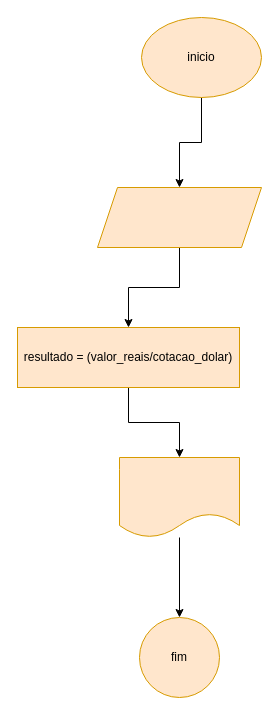
This 279x715 diagram has some shape labels left out. Here are the shapes that lost their labels. From the top down, the centre of each, then its label:
At point 179,217: "cotacao_dolar valor_reais".
At point 179,497: "print(resultado)".
